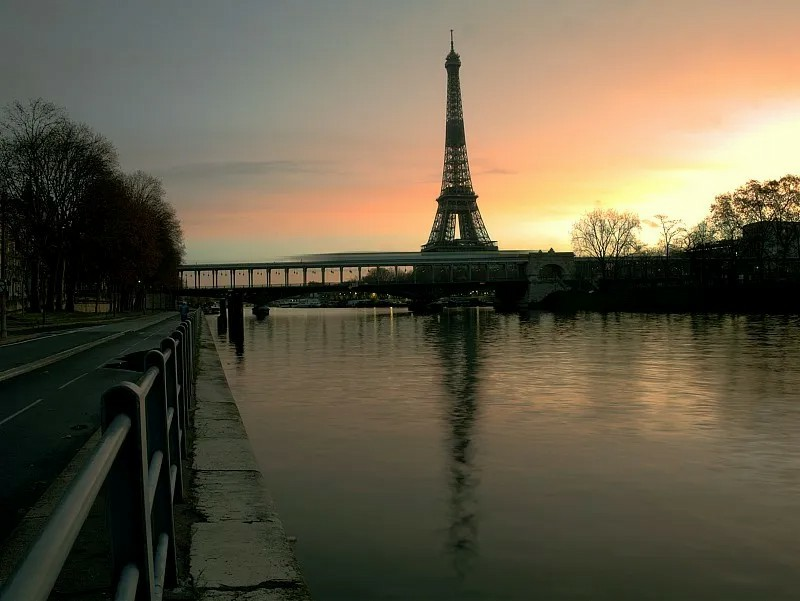Eiffel: (417, 27, 500, 250)
